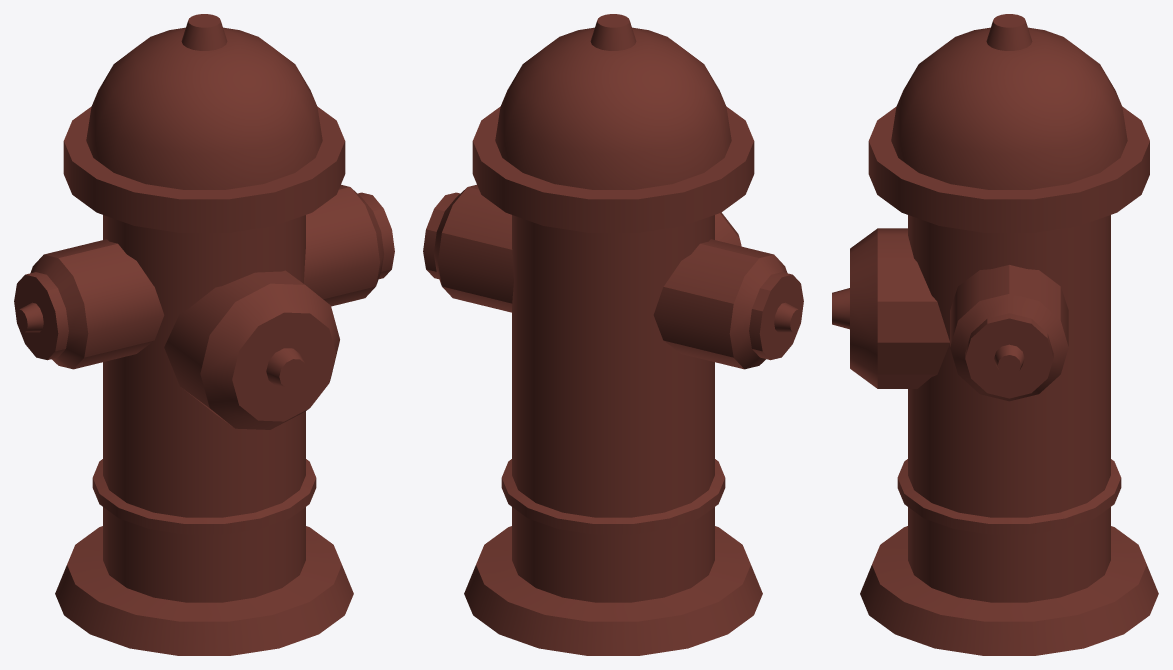
File: q-fire-hydrant-dkkmqbeklp.glb
The picture shows the model from 3 angles, left to right: view 1: azimuth 30°, elevation 25°; view 2: azimuth 150°, elevation 25°; view 3: azimuth 270°, elevation 25°; orthographic projection.
Visible parts, largest first — view 1: FireHydrant; view 2: FireHydrant; view 3: FireHydrant.
Boxes of the visible parts, x1,y1,x2,y2 form: FireHydrant: (14,14,394,655); FireHydrant: (423,14,803,655); FireHydrant: (832,14,1158,655).
Bounding box in the file's own units: 0.5151 × 0.7724 × 0.3992.
1 material, 1 textured.
